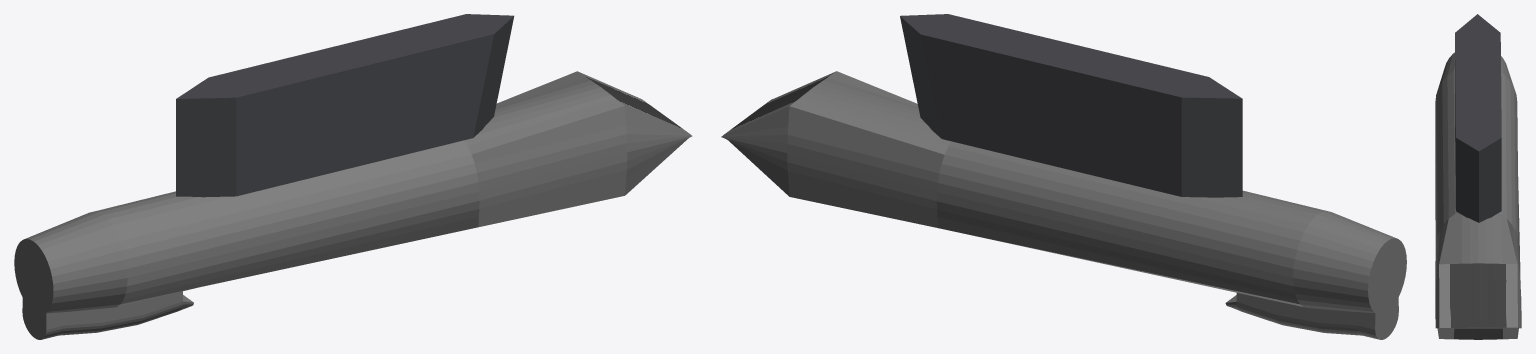
The model's file is rafaleaaq33.glb.
The picture shows the model from 3 angles, left to right: view 1: azimuth 30°, elevation 25°; view 2: azimuth 150°, elevation 25°; view 3: azimuth 270°, elevation 25°; orthographic projection. The views are drawn at different scales.
Parts seen in each view (by area): view 1: 円柱.036, 立方体.039; view 2: 円柱.036, 立方体.039; view 3: 円柱.036, 立方体.039.
Part boxes in pixels (x1,y1,x2,y2): 円柱.036: (14, 71, 692, 339); 立方体.039: (176, 14, 514, 197); 円柱.036: (721, 71, 1406, 339); 立方体.039: (900, 14, 1242, 197); 円柱.036: (1435, 52, 1521, 339); 立方体.039: (1455, 14, 1501, 222).
Bounding box in the file's own units: 2.95 × 0.9434 × 0.4188.
Materials: 2 (1 with a texture image).
